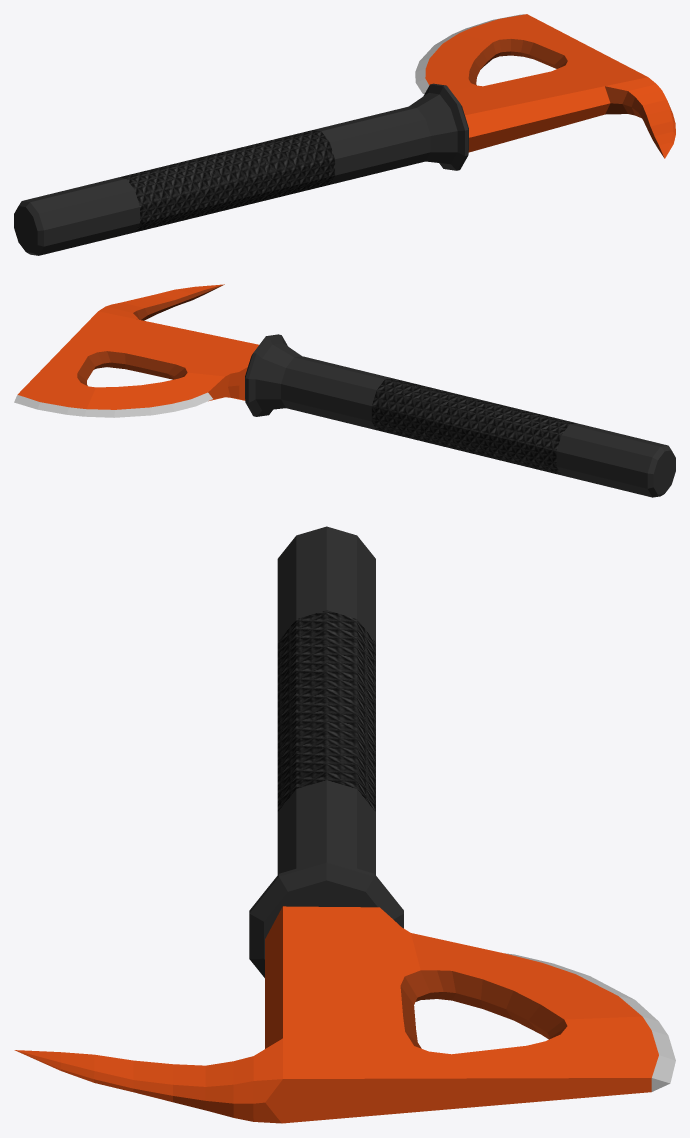
Rendered from WorldItem_CrashAxe.fbx.
The picture shows the model from 3 angles, top to bottom: view 1: azimuth 30°, elevation 25°; view 2: azimuth 150°, elevation 25°; view 3: azimuth 270°, elevation 25°; orthographic projection. The views are drawn at different scales.
Visible parts, largest first — view 1: ZomboidCrashAxe; view 2: ZomboidCrashAxe; view 3: ZomboidCrashAxe.
Boxes of the visible parts, bbox=[...] form: ZomboidCrashAxe: bbox=[14, 14, 675, 255]; ZomboidCrashAxe: bbox=[14, 284, 675, 497]; ZomboidCrashAxe: bbox=[14, 526, 675, 1123].
Size of the model in its own units: 0.2995 by 0.0385 by 0.1568.
